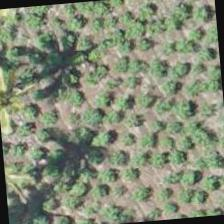Kelapa_Sawit: (0, 54, 60, 150)
